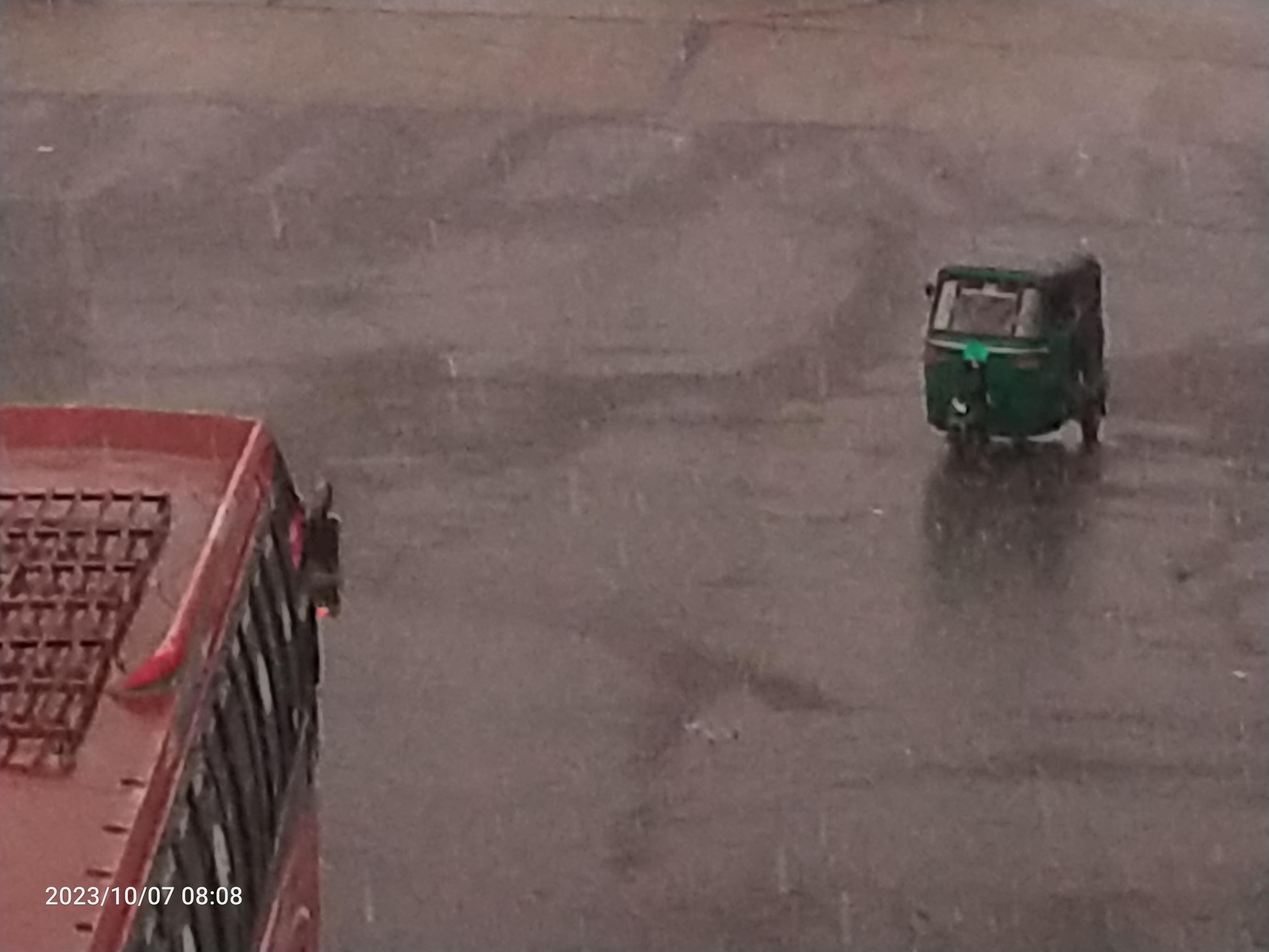Bus: (0, 382, 345, 952)
